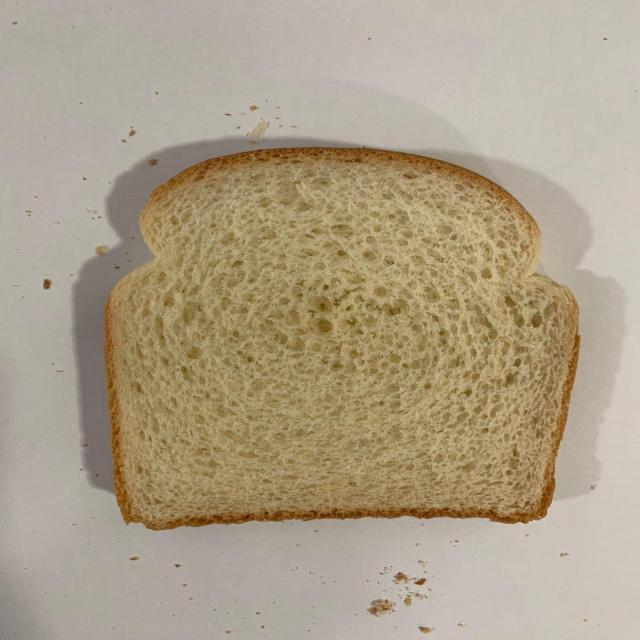pan: (103, 147, 581, 528)
